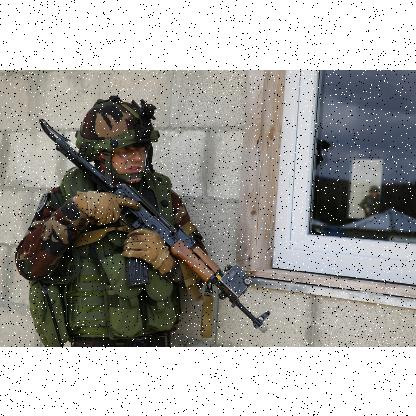gun: (18, 140, 256, 332)
